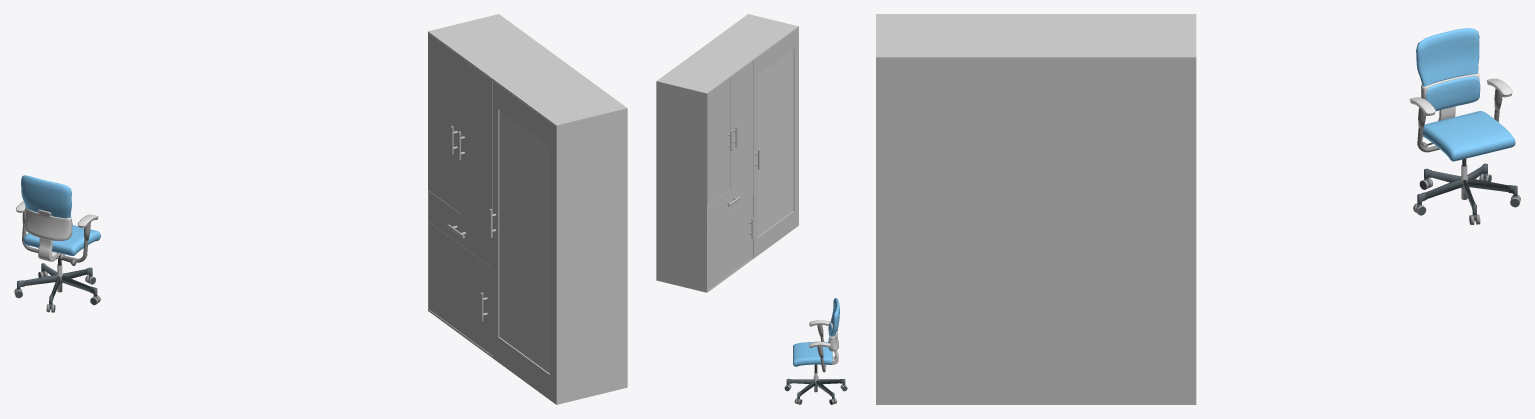
File: chair.fbx
3 renders of one model, left to right at view 1: azimuth 30°, elevation 25°; view 2: azimuth 150°, elevation 25°; view 3: azimuth 270°, elevation 25°, orthographic. The views are drawn at different scales.
Parts seen in each view (by area): view 1: Cube_Cube.001, sweethome3d_window_mirror, Plane.008_Plane.009, Plane.009_Plane.010, Cylinder.002_Cylinder.006, Cylinder.004_Cylinder.007, sillaOfi_respaldo, Cube.001_Cube.002, sillaOfi_respaldo.001, sillaOfi_ruedas.0; view 2: Cube_Cube.001, sweethome3d_window_mirror, Plane.008_Plane.009, Plane.009_Plane.010, Cylinder.004_Cylinder.007, Cylinder.002_Cylinder.006, Cube.001_Cube.002, sillaOfi_respaldo, sillaOfi_ruedas.0, sillaOfi_respaldo.001; view 3: Cube_Cube.001, sillaOfi_respaldo, sillaOfi_ruedas.0, sillaOfi_respaldo.001.
Part boxes in pixels (x1,y1,x2,y2): Cube_Cube.001: (428, 14, 627, 404); sweethome3d_window_mirror: (499, 110, 549, 373); Plane.008_Plane.009: (489, 81, 555, 403); Plane.009_Plane.010: (429, 222, 492, 355); Cylinder.002_Cylinder.006: (458, 57, 492, 237); Cylinder.004_Cylinder.007: (428, 33, 460, 213); sillaOfi_respaldo: (21, 175, 100, 255); Cube.001_Cube.002: (429, 191, 492, 268); sillaOfi_respaldo.001: (16, 201, 98, 261); sillaOfi_ruedas.0: (15, 263, 97, 311); Cube_Cube.001: (656, 14, 798, 292); sweethome3d_window_mirror: (757, 49, 793, 236); Plane.008_Plane.009: (753, 28, 798, 258); Plane.009_Plane.010: (707, 195, 753, 290); Cylinder.004_Cylinder.007: (707, 78, 732, 205); Cylinder.002_Cylinder.006: (730, 61, 753, 189); Cube.001_Cube.002: (707, 173, 753, 227); sillaOfi_respaldo: (793, 298, 839, 366); sillaOfi_ruedas.0: (784, 378, 847, 404); sillaOfi_respaldo.001: (809, 320, 838, 366); Cube_Cube.001: (876, 14, 1196, 404); sillaOfi_respaldo: (1416, 28, 1515, 161); sillaOfi_ruedas.0: (1417, 163, 1519, 224); sillaOfi_respaldo.001: (1409, 72, 1512, 120).
Size of the model in its own units: 650 by 533 by 387.
